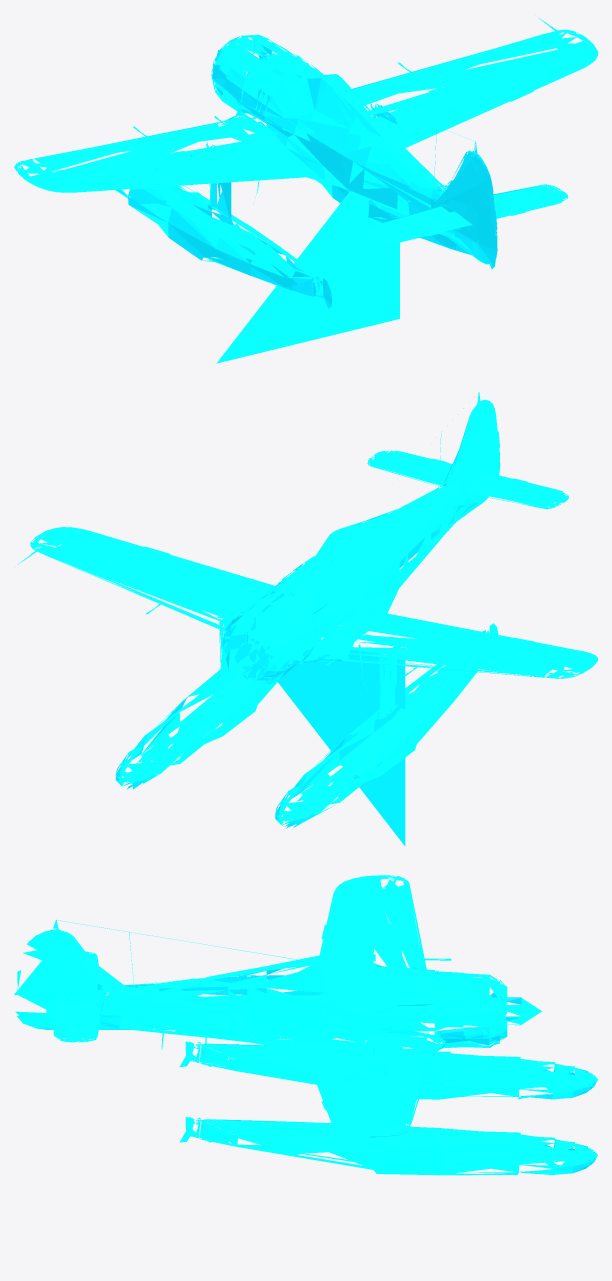
The model's file is PGAF005.glb.
3 views of the same model, one above another, from view 1: azimuth 30°, elevation 25°; view 2: azimuth 150°, elevation 25°; view 3: azimuth 270°, elevation 25° (orthographic). The views are drawn at different scales.
Visible parts, largest first — view 1: misc; view 2: misc; view 3: misc.
Part boxes in pixels (x1,y1,x2,y2): misc: [14, 14, 597, 363]; misc: [14, 392, 597, 846]; misc: [14, 875, 597, 1175].
Size of the model in its own units: 0.7 by 0.3811 by 0.6613.
